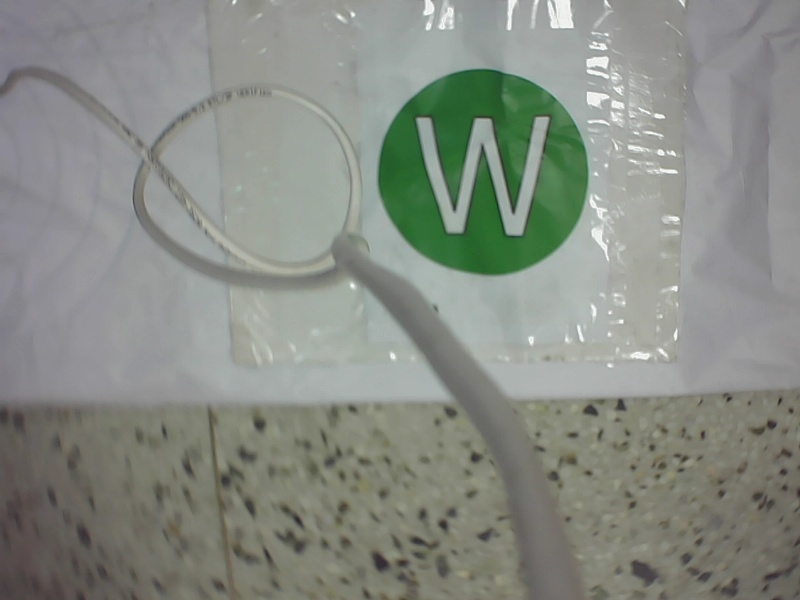areaB: (364, 60, 598, 284)
